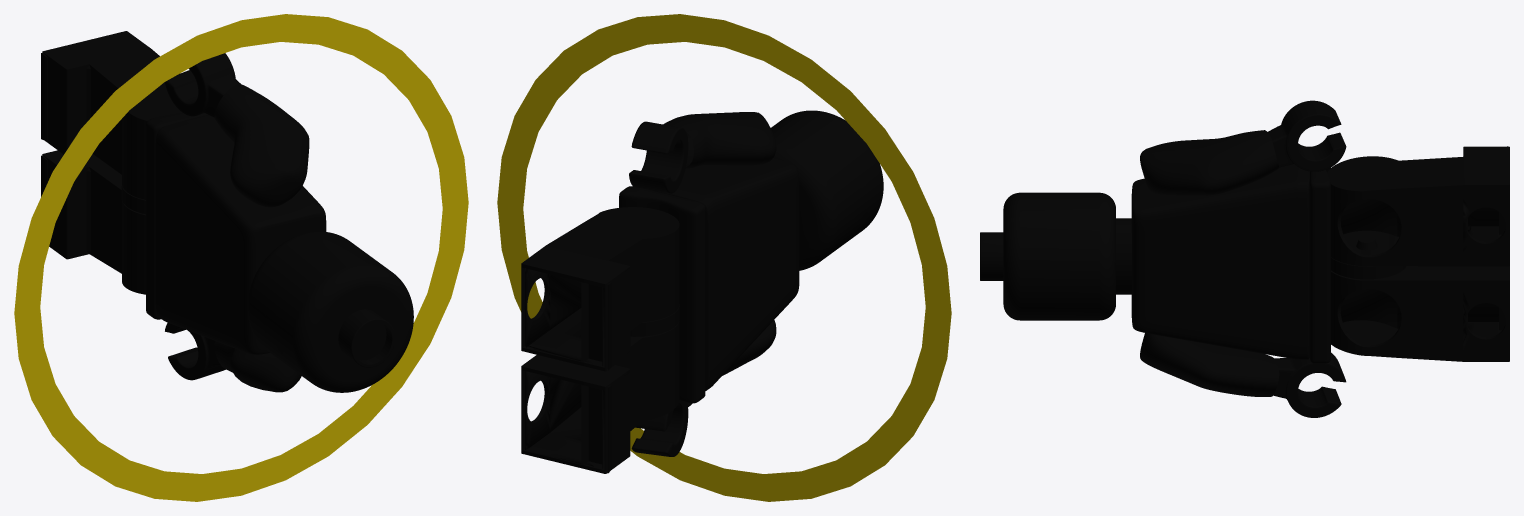
Rendered from legoX.obj.
The picture shows the model from 3 angles, left to right: view 1: azimuth 30°, elevation 25°; view 2: azimuth 150°, elevation 25°; view 3: azimuth 270°, elevation 25°; orthographic projection. The views are drawn at different scales.
Parts seen in each view (by area): view 1: lego_obj.001, Circle; view 2: lego_obj.001, Circle; view 3: lego_obj.001.
Part boxes in pixels (x1,y1,x2,y2): lego_obj.001: [41, 31, 413, 392]; Circle: [14, 14, 468, 501]; lego_obj.001: [521, 110, 883, 473]; Circle: [497, 14, 951, 501]; lego_obj.001: [980, 100, 1509, 417].
Bounding box in the file's own units: 38.71 × 38.71 × 41.99.
